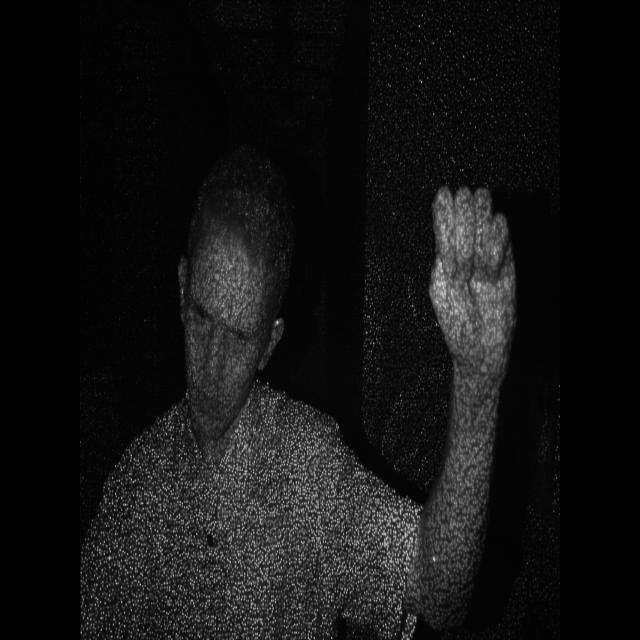E: (420, 166, 530, 427)
